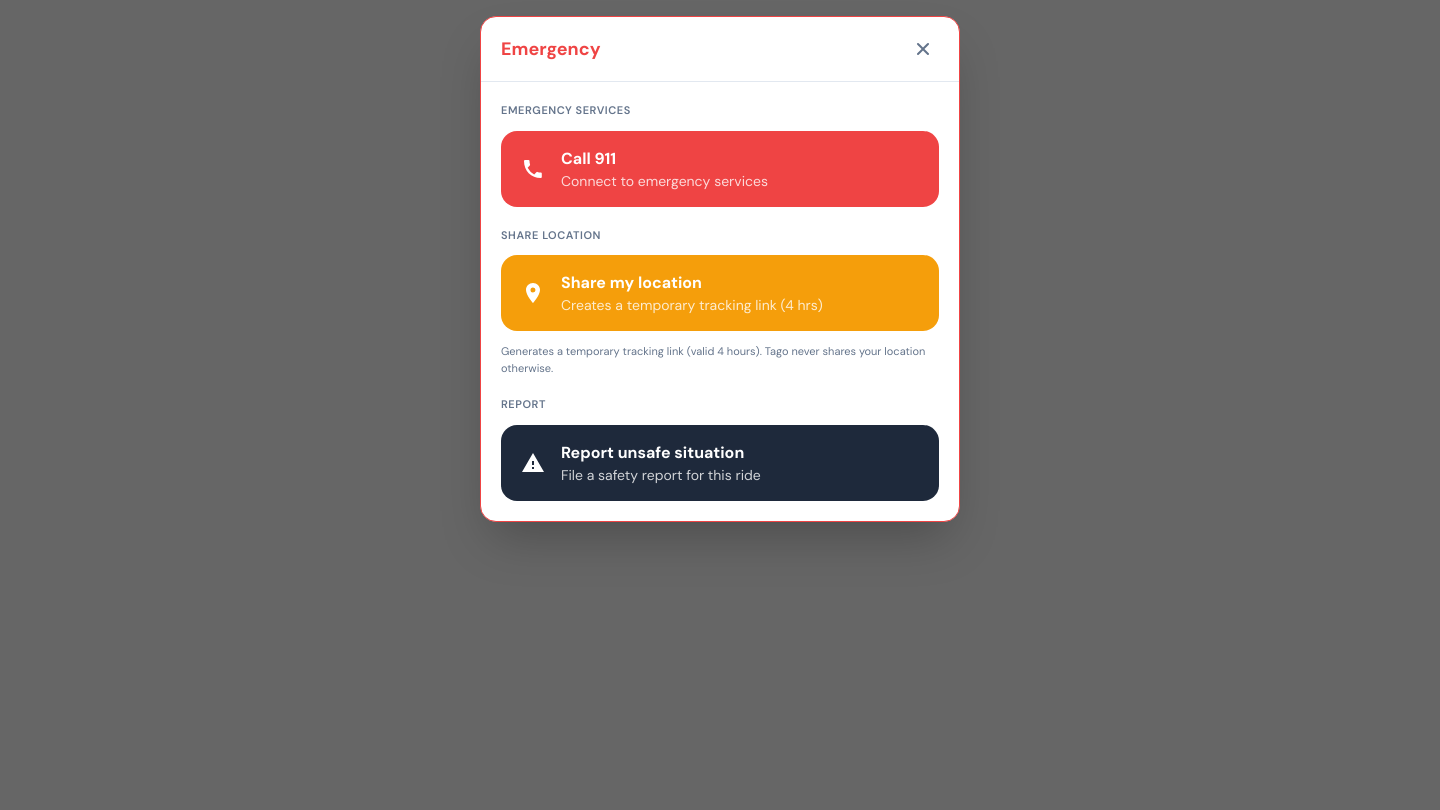
it: EmergencySheet › Report button opens inline category picker
Step 1. Click the button with test id "emergency-report" → (720, 462), box [501, 424, 939, 500]
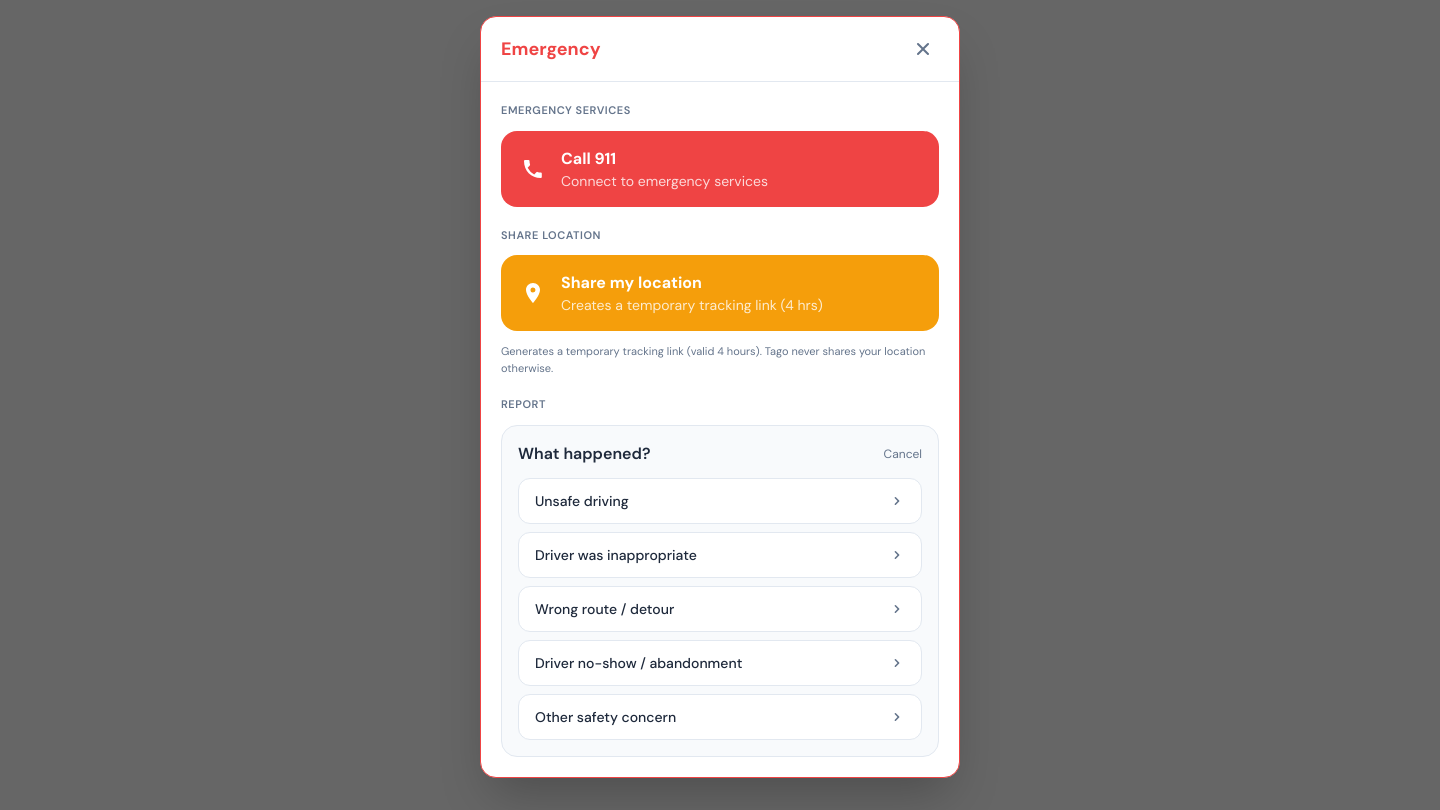
expect the element with test id "report-category-step" is shown: met, box [501, 424, 939, 756]
